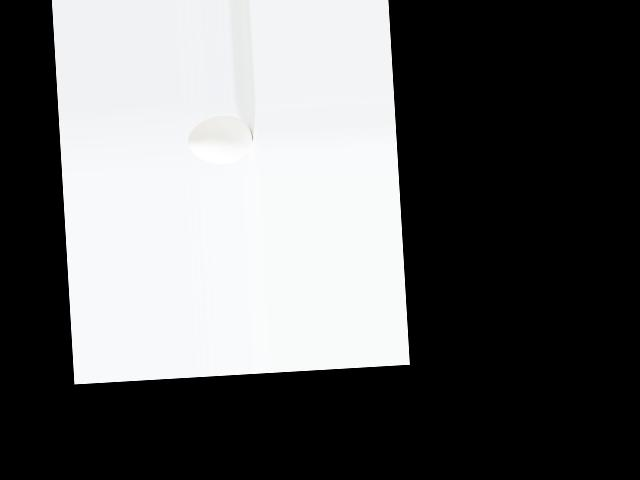egg: (186, 114, 253, 166)
